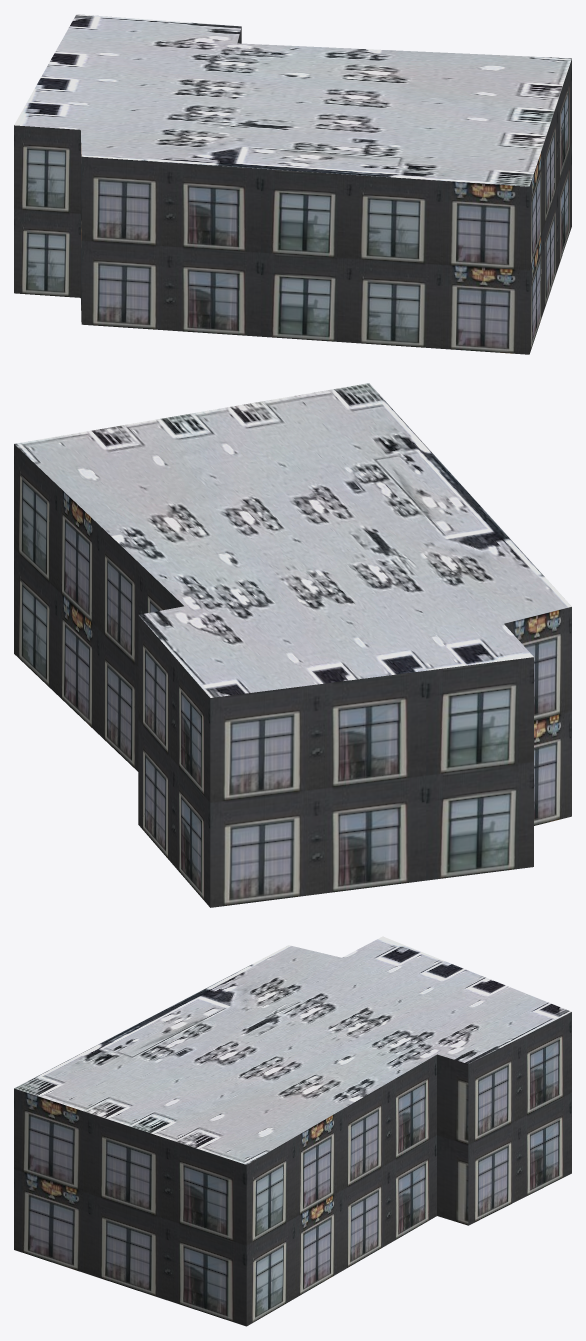
File: ResTex__1925.fbx
3 renders of one model, top to bottom at view 1: azimuth 30°, elevation 25°; view 2: azimuth 150°, elevation 25°; view 3: azimuth 270°, elevation 25°, orthographic. The views are drawn at different scales.
Visible parts, largest first — view 1: CityEngineMaterial_22_m, CityEngineMaterial_8_m; view 2: CityEngineMaterial_22_m, CityEngineMaterial_8_m; view 3: CityEngineMaterial_22_m, CityEngineMaterial_8_m.
Part boxes in pixels (x1,y1,x2,y2): CityEngineMaterial_22_m: (14,27,571,354); CityEngineMaterial_8_m: (14,14,571,186); CityEngineMaterial_22_m: (14,444,571,907); CityEngineMaterial_8_m: (14,383,571,697); CityEngineMaterial_22_m: (14,1012,571,1326); CityEngineMaterial_8_m: (14,936,571,1164).
Size of the model in its own units: 18.21 by 6 by 18.78.
2 materials, 2 textured.
